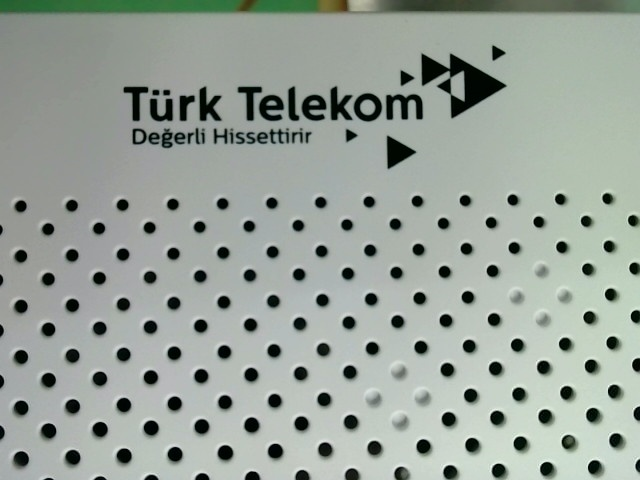AQ_TURKTelekom: (117, 41, 507, 169)
